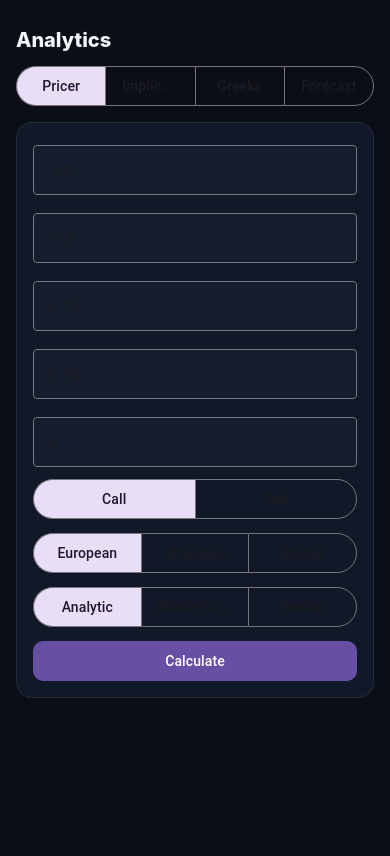
it: Option pricer › resets Heston to Black-Scholes when leaving European style
Click the button "Heston": (303, 607) [249,588,356,626]
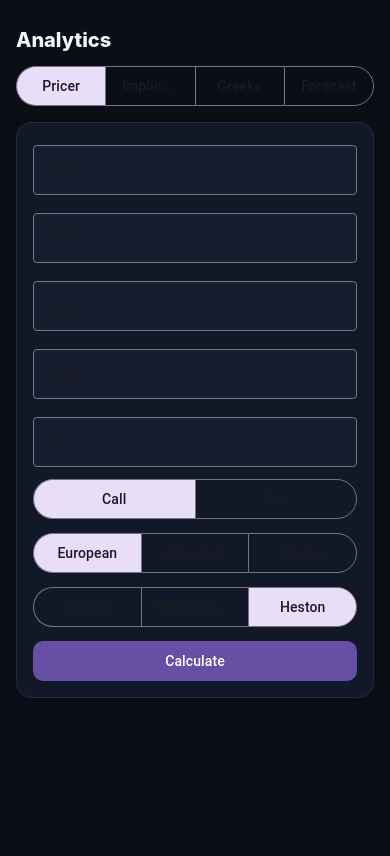
Click the button "Barrier": (303, 553) [249,534,356,572]
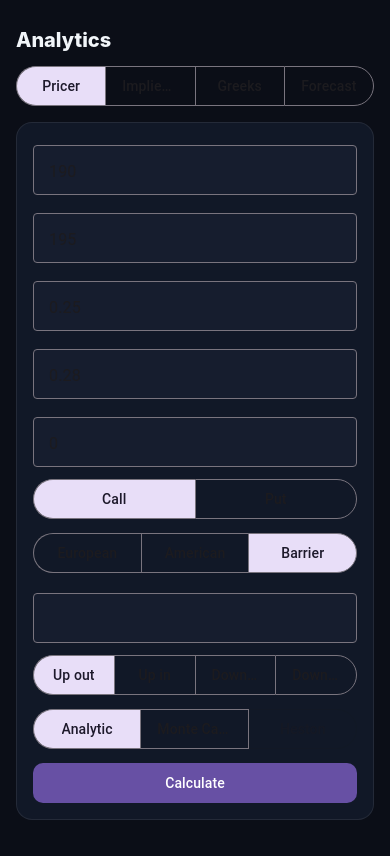
Click the button "Calculate": (195, 783) [33,763,357,803]
(page scrolled)
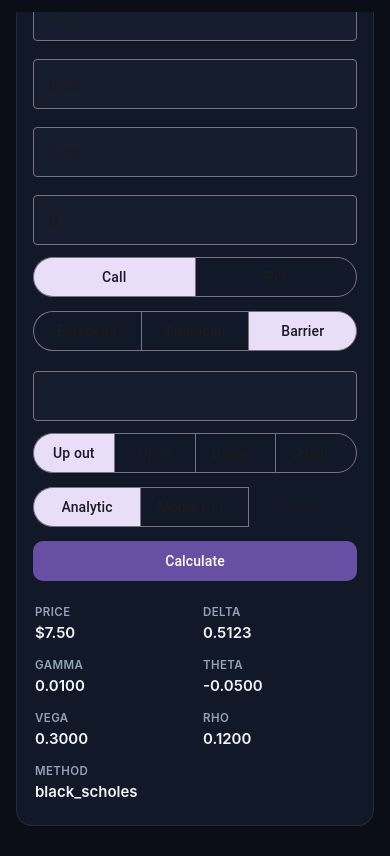
Check: the text "black_scholes" is shown, box [35,782,138,801]
